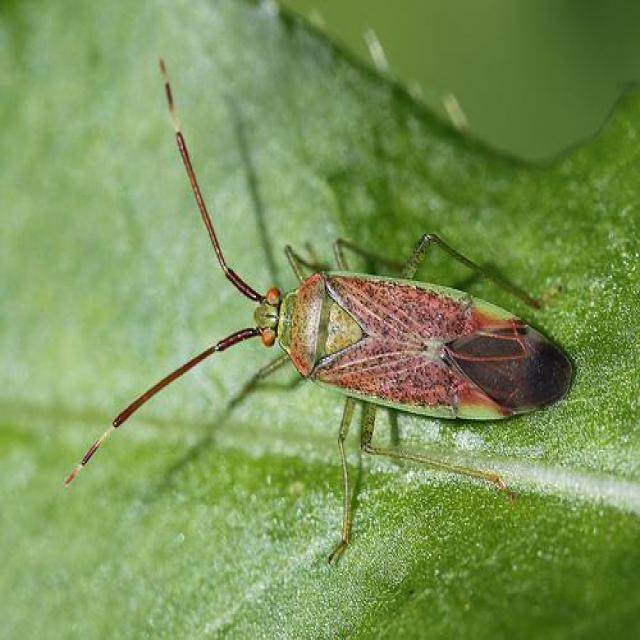Miridae-Adult-: (28, 51, 589, 576)
